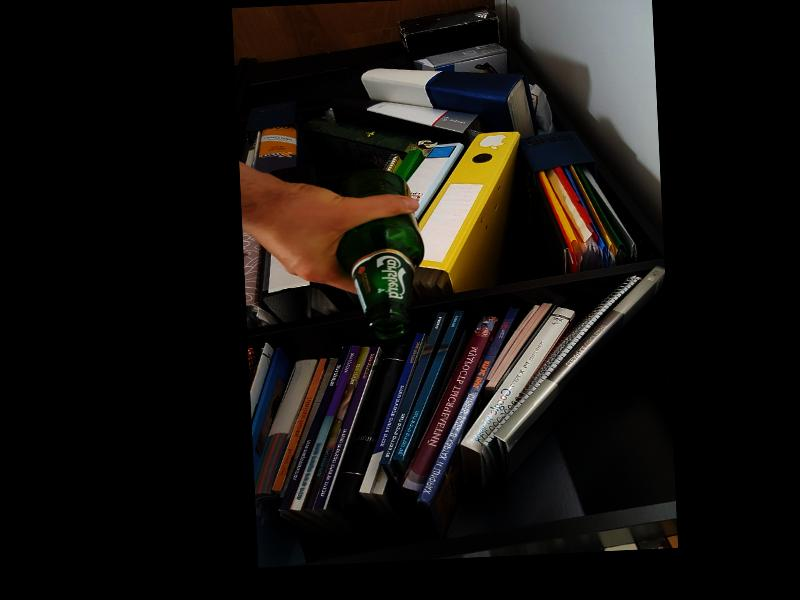Beer: (335, 165, 426, 341)
